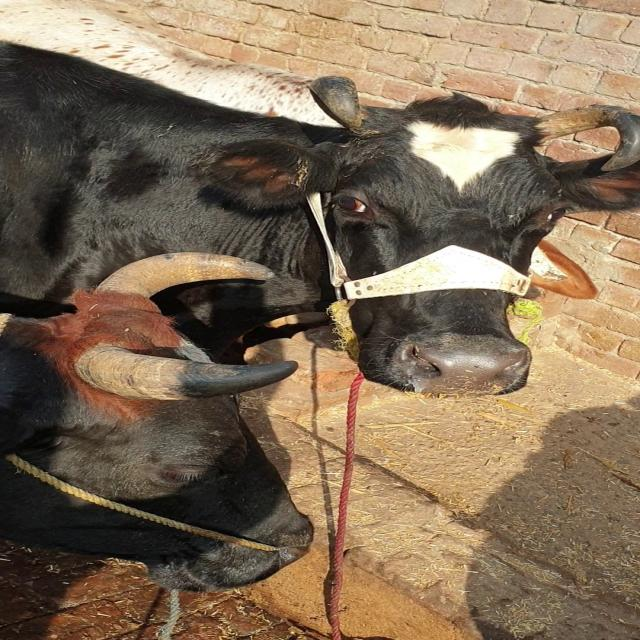cowFace: (304, 81, 607, 416), (47, 261, 326, 595)
